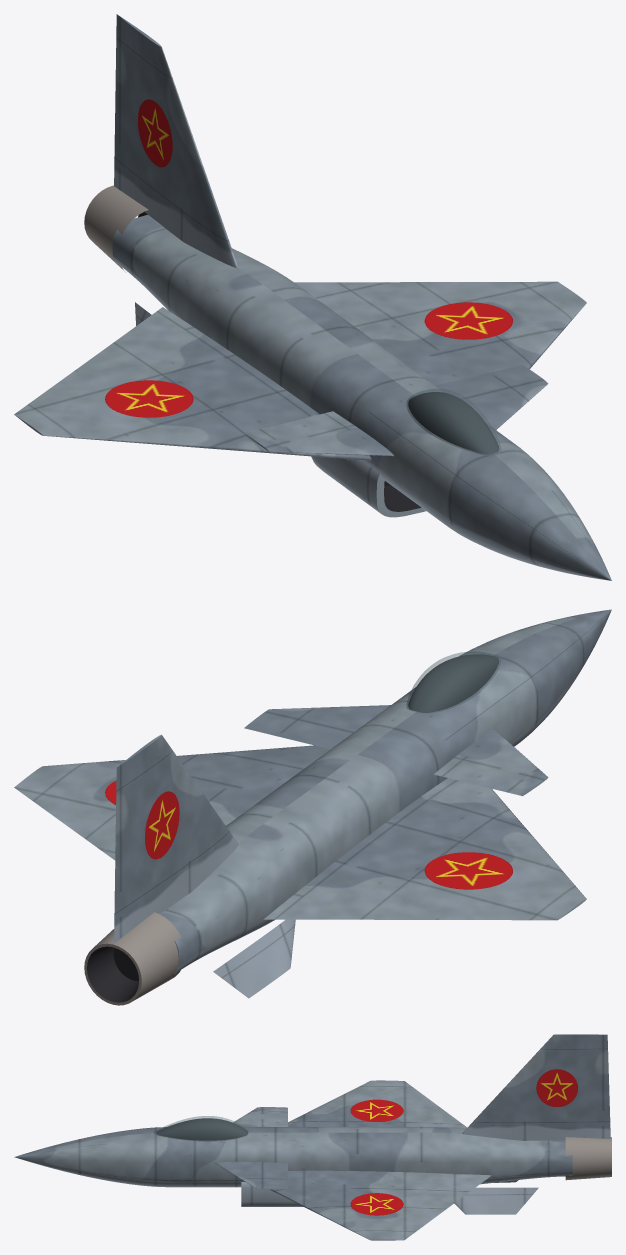
3 views of the same model, one above another, from view 1: azimuth 30°, elevation 25°; view 2: azimuth 150°, elevation 25°; view 3: azimuth 270°, elevation 25° (orthographic). The views are drawn at different scales.
Visible parts, largest first — view 1: Fuselage, Wing0_R, Wing0_L, Fin2, Canard1_R, Canopy, Canard1_L, Cockpit, Intake, Decal_Wing_U_L, Decal_Wing_U_R, Nozzle (+1 smaller); view 2: Fuselage, Wing0_R, Fin2, Wing0_L, Nozzle, Canard1_R, Canopy, Canard1_L, Ventral3_R, Cockpit, Decal_Wing_U_R, Decal_Fin_a; view 3: Fuselage, Fin2, Wing0_L, Wing0_R, Ventral3_L, Nozzle, Canopy, Cockpit, Canard1_L, Decal_Fin_b, Decal_Wing_U_L, Decal_Wing_U_R (+2 smaller).
Boxes of the visible parts, box(x1,y1,x2,y2) form: Fuselage: box(112, 215, 611, 580); Wing0_R: box(14, 307, 371, 460); Wing0_L: box(294, 281, 586, 385); Fin2: box(114, 14, 238, 268); Canard1_R: box(244, 411, 393, 456); Canopy: box(406, 389, 501, 455); Canard1_L: box(436, 365, 548, 429); Cockpit: box(408, 392, 499, 454); Intake: box(311, 456, 425, 517); Decal_Wing_U_L: box(424, 302, 512, 339); Decal_Wing_U_R: box(105, 380, 193, 417); Nozzle: box(84, 185, 148, 272); Fuselage: box(160, 609, 611, 974); Wing0_R: box(263, 778, 586, 920); Fin2: box(114, 734, 238, 943); Wing0_L: box(14, 745, 330, 860); Nozzle: box(84, 912, 181, 1005); Canard1_R: box(434, 729, 548, 796); Canopy: box(406, 652, 501, 713); Canard1_L: box(244, 705, 390, 749); Ventral3_R: box(213, 919, 295, 998); Cockpit: box(408, 654, 499, 712); Decal_Wing_U_R: box(424, 852, 512, 889); Decal_Fin_a: box(145, 791, 179, 859); Fuselage: box(14, 1127, 572, 1187); Fin2: box(462, 1034, 610, 1140); Wing0_L: box(270, 1170, 491, 1240); Wing0_R: box(288, 1080, 467, 1128); Ventral3_L: box(454, 1187, 538, 1214); Nozzle: box(565, 1137, 611, 1180); Canopy: box(154, 1116, 248, 1141); Cockpit: box(156, 1118, 247, 1140); Canard1_L: box(215, 1161, 287, 1189); Decal_Fin_b: box(536, 1069, 577, 1106); Decal_Wing_U_L: box(350, 1193, 403, 1215); Decal_Wing_U_R: box(350, 1099, 403, 1121).
Bounding box in the file's own units: 9.75 × 4.7 × 15.49.
6 materials, 2 textured.
